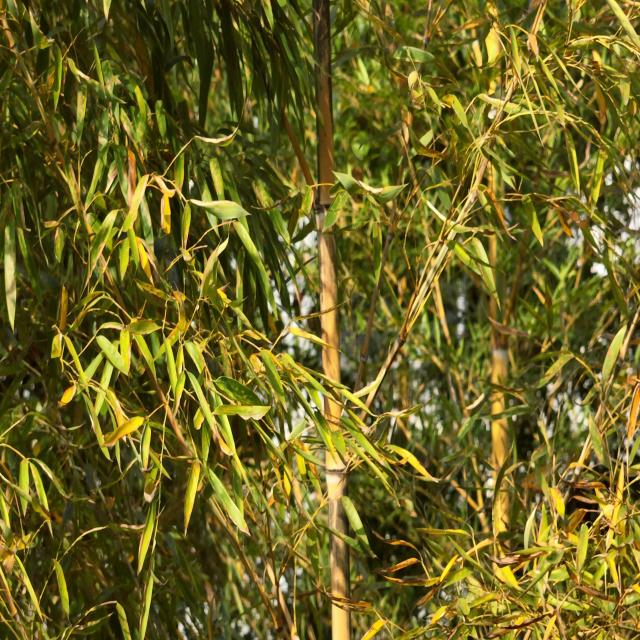Bamboo-shoots: (312, 0, 351, 640)
